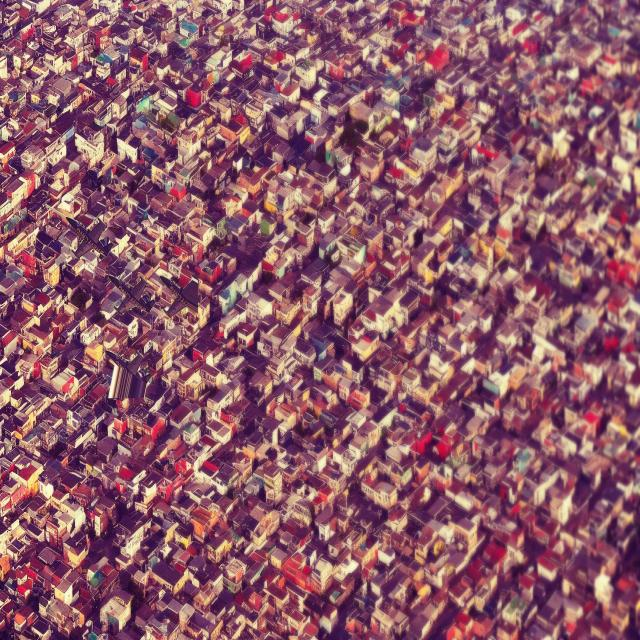airplane: (108, 267, 156, 318), (106, 346, 148, 401), (69, 214, 113, 262), (161, 272, 202, 318)
